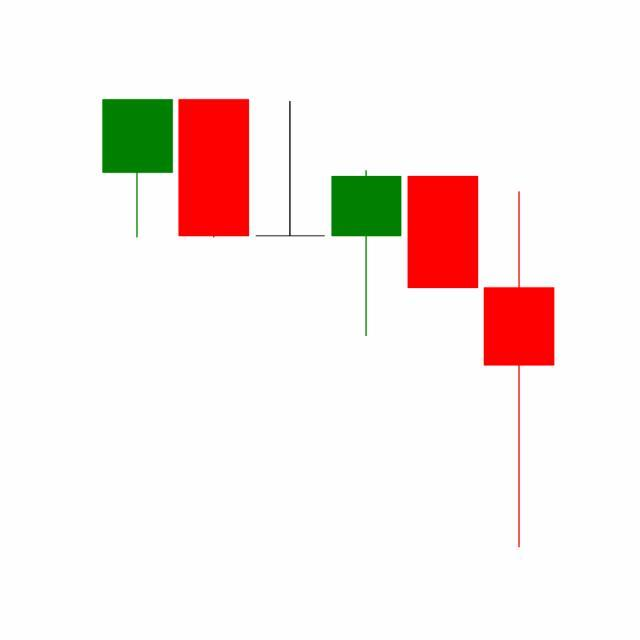Marubozu: (404, 175, 482, 290)
